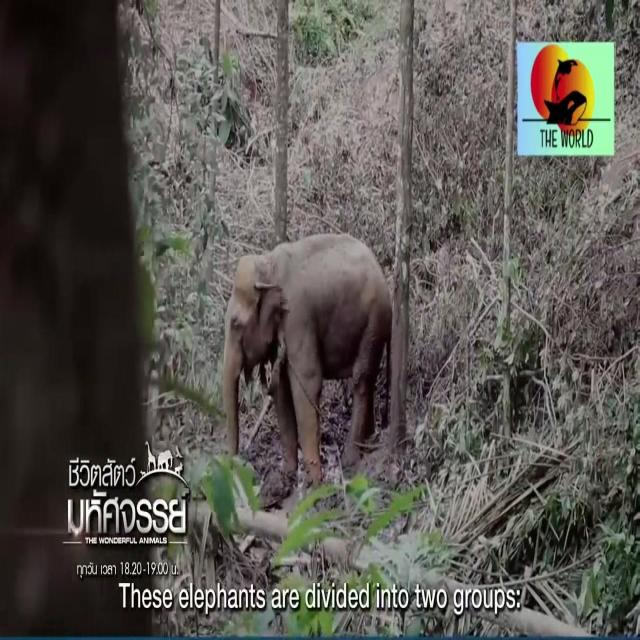Elephant: (216, 244, 367, 422)
